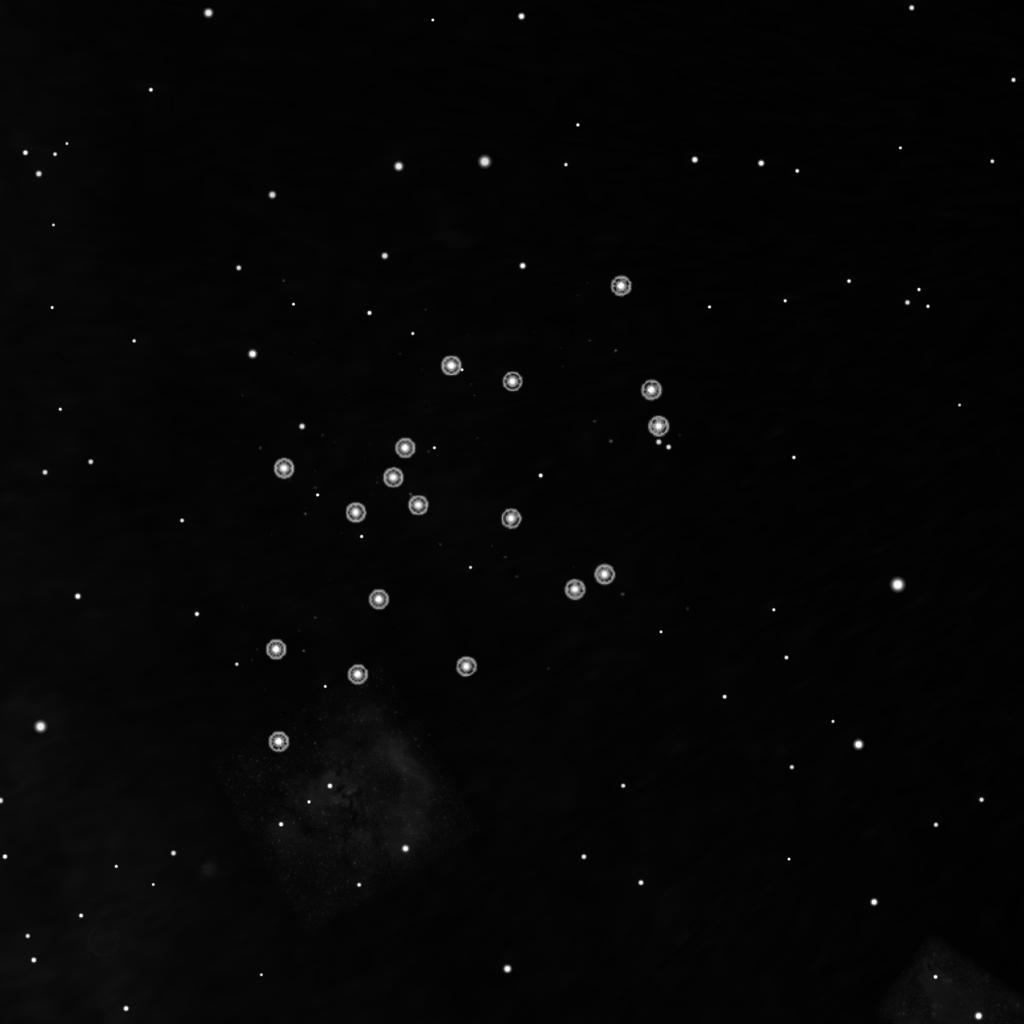canis_major: (336, 349, 528, 527)
